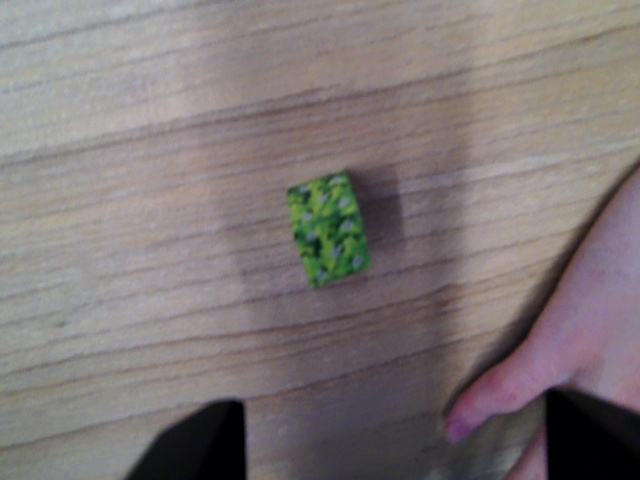grass: (280, 164, 375, 292)
